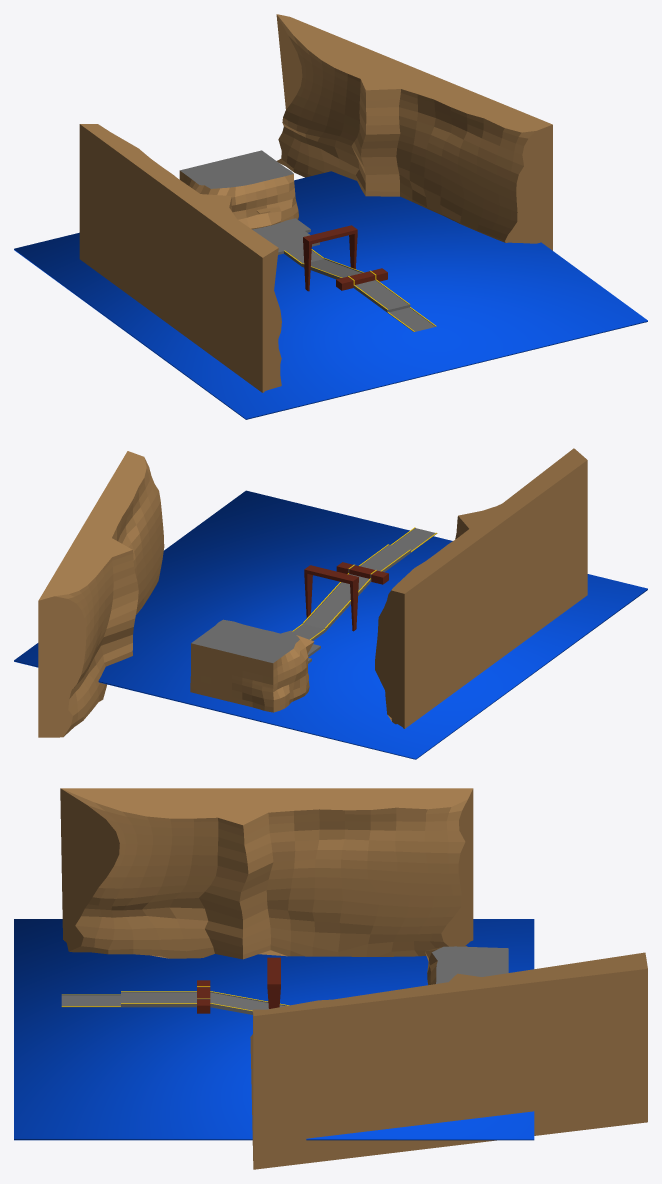
File: DemoAct.fbx
The picture shows the model from 3 angles, top to bottom: view 1: azimuth 30°, elevation 25°; view 2: azimuth 150°, elevation 25°; view 3: azimuth 270°, elevation 25°; orthographic projection. The views are drawn at different scales.
Visible parts, largest first — view 1: Water, Cube.001, Cube, PathA.b, PathA, PathA.a; view 2: Water, Cube, Cube.001, PathA.b, PathA, PathA.a; view 3: Cube, Cube.001, Water, PathA, PathA.b, PathA.a.
Boxes of the visible parts, x1,y1,x2,y2 form: Water: [14, 171, 647, 419]; Cube.001: [276, 14, 552, 250]; Cube: [79, 124, 281, 392]; PathA.b: [179, 150, 298, 229]; PathA: [252, 218, 436, 331]; PathA.a: [303, 225, 357, 291]; Water: [14, 490, 647, 759]; Cube: [375, 448, 587, 728]; Cube.001: [38, 451, 164, 737]; PathA.b: [190, 619, 314, 712]; PathA: [292, 527, 437, 663]; PathA.a: [304, 565, 358, 631]; Cube: [60, 788, 473, 959]; Cube.001: [250, 952, 647, 1169]; Water: [14, 919, 534, 1140]; PathA: [61, 980, 289, 1014]; PathA.b: [425, 946, 508, 985]; PathA.a: [267, 957, 280, 1008].
Size of the model in its own units: 3616 by 1484 by 4281.
